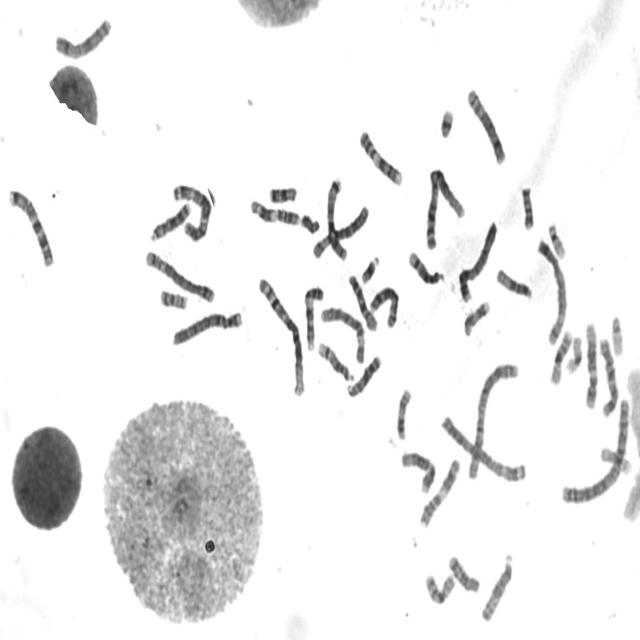A1: (255, 272, 307, 398), (422, 162, 467, 252)
A2: (559, 394, 631, 506), (465, 357, 521, 483)
A3: (438, 410, 528, 484), (170, 178, 213, 244)
B4: (456, 215, 499, 305), (170, 305, 244, 348)
B5: (142, 244, 217, 305), (534, 234, 570, 346)
C10: (346, 268, 379, 332), (596, 333, 620, 418)
C11: (417, 454, 462, 530), (248, 194, 302, 227)
C12: (398, 446, 438, 495), (582, 318, 600, 410)
C6: (309, 200, 371, 260), (318, 302, 367, 366)
C7: (5, 183, 56, 269), (324, 172, 349, 262)
C8: (464, 83, 508, 166), (368, 281, 400, 330)
C9: (356, 124, 404, 188), (302, 280, 326, 352)
D13: (148, 197, 192, 243), (344, 350, 383, 399)
D14: (315, 337, 356, 383), (406, 246, 446, 286)
D15: (478, 548, 516, 624), (494, 264, 534, 301)
E16: (547, 324, 575, 386), (422, 568, 457, 606)
E17: (461, 296, 492, 338), (394, 384, 413, 442)
E18: (446, 550, 481, 595), (266, 181, 298, 205)
F19: (597, 440, 634, 477), (564, 331, 584, 375)
F20: (518, 181, 536, 232), (157, 284, 189, 310)
G21: (358, 250, 382, 286), (437, 103, 456, 140)
G22: (546, 217, 568, 261), (608, 310, 626, 357)
X: (51, 12, 113, 61)
Y: (298, 209, 321, 235)
